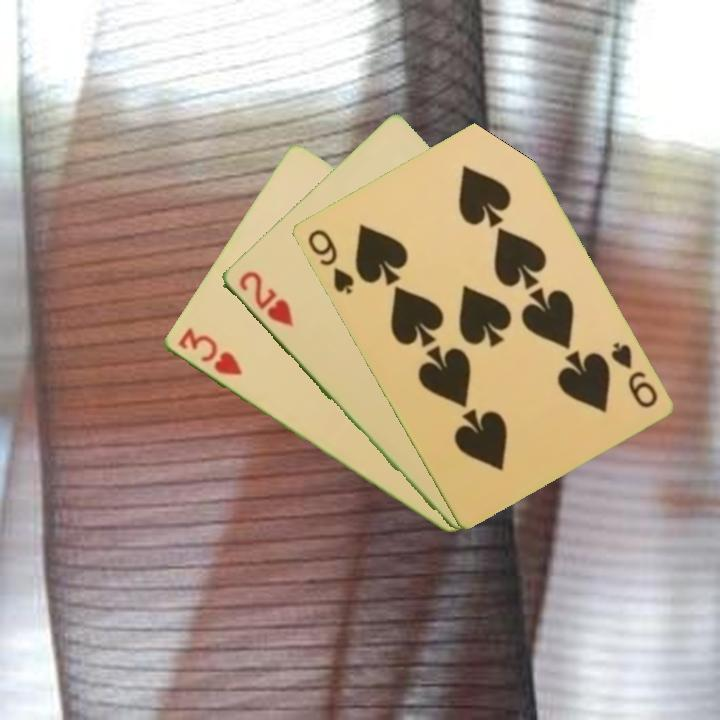2h: (235, 267, 296, 330)
3h: (174, 324, 245, 379)
9s: (606, 338, 661, 411), (303, 225, 357, 298)
